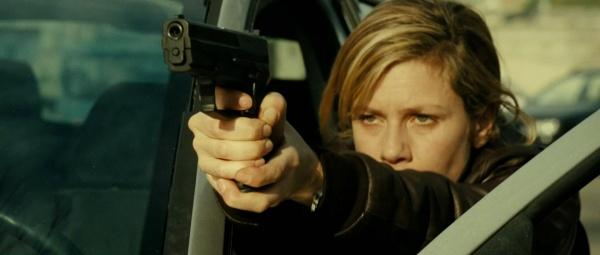Gun: (162, 13, 269, 119)
